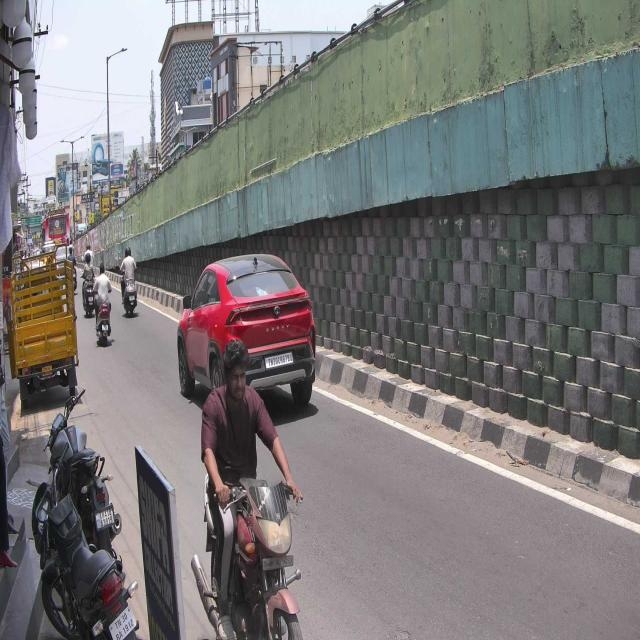single_rider: (190, 337, 304, 640)
